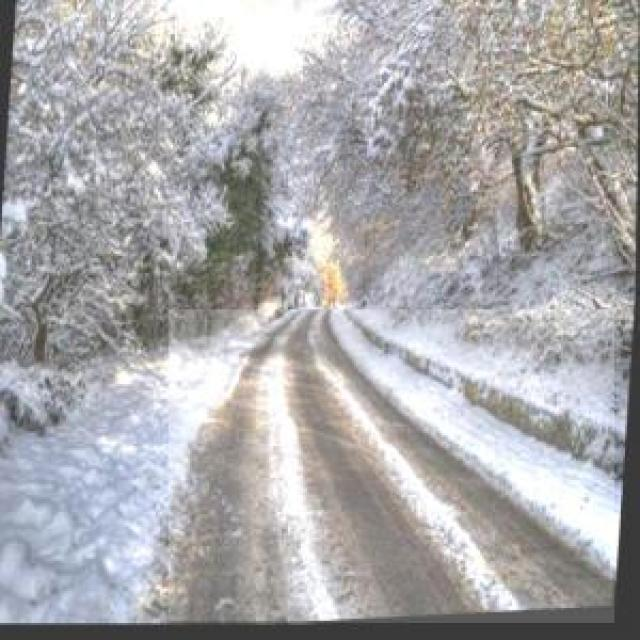clear-road: (170, 311, 614, 623)
